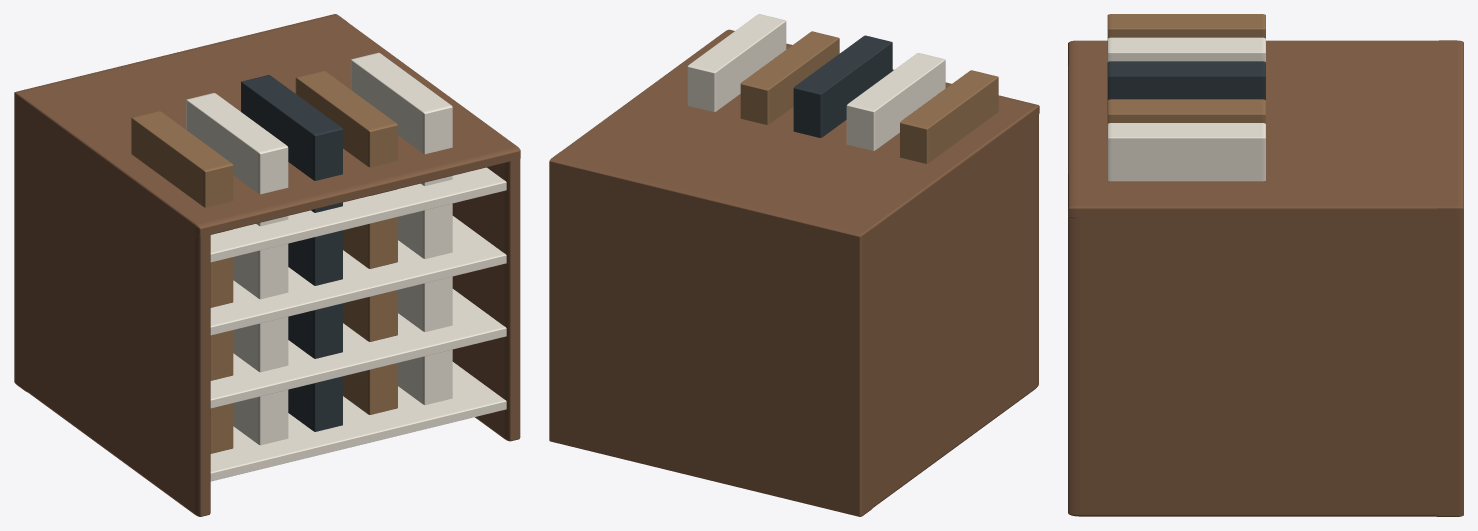
The model's file is shelf-17-1.glb.
The picture shows the model from 3 angles, left to right: view 1: azimuth 30°, elevation 25°; view 2: azimuth 150°, elevation 25°; view 3: azimuth 270°, elevation 25°; orthographic projection. The views are drawn at different scales.
Parts seen in each view (by area): view 1: upholstery (×2), book (×2); view 2: upholstery (×2), book (×2); view 3: upholstery (×2), book (×2).
Boxes of the visible parts, box(x1,y1,x2,y2) form: upholstery (×2): box(14, 14, 520, 516); book (×2): box(131, 70, 397, 453); upholstery (×2): box(549, 14, 1039, 516); book (×2): box(740, 31, 998, 163); upholstery (×2): box(1068, 37, 1463, 516); book (×2): box(1107, 14, 1265, 123).
Size of the model in its own units: 1 by 1 by 1.
